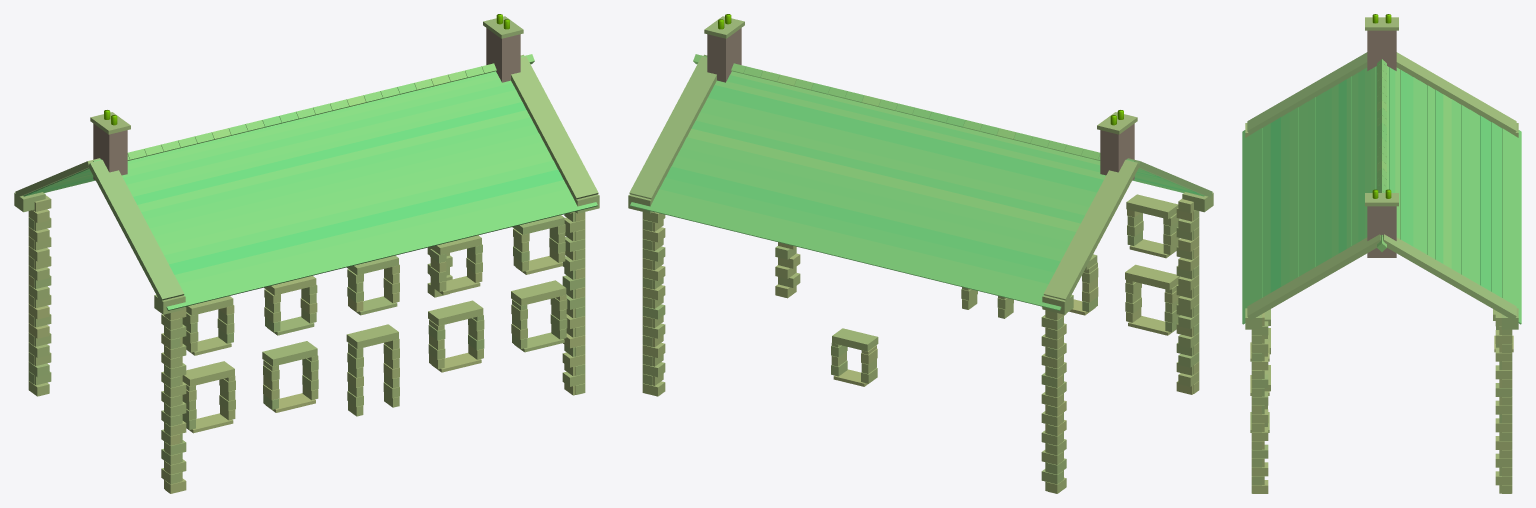
Rendered from SM_Bld_089_Stone.glb.
3 views of the same model, side by side, from view 1: azimuth 30°, elevation 25°; view 2: azimuth 150°, elevation 25°; view 3: azimuth 270°, elevation 25° (orthographic). The views are drawn at different scales.
Visible parts, largest first — view 1: SM_Bld_089_Stone; view 2: SM_Bld_089_Stone; view 3: SM_Bld_089_Stone.
Part boxes in pixels (<box>): SM_Bld_089_Stone: <box>14,14,599,493</box>; SM_Bld_089_Stone: <box>628,14,1213,493</box>; SM_Bld_089_Stone: <box>1242,14,1521,493</box>.
Size of the model in its own units: 14.45 by 10.14 by 8.61.
